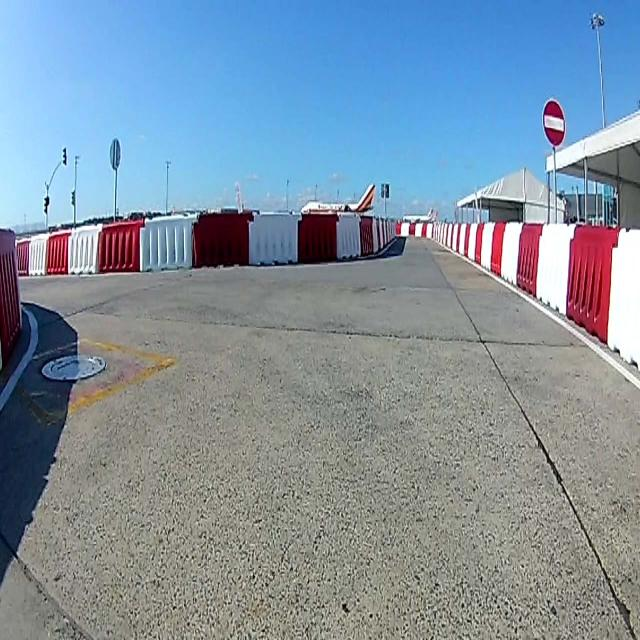girisyok: (543, 98, 564, 146)
